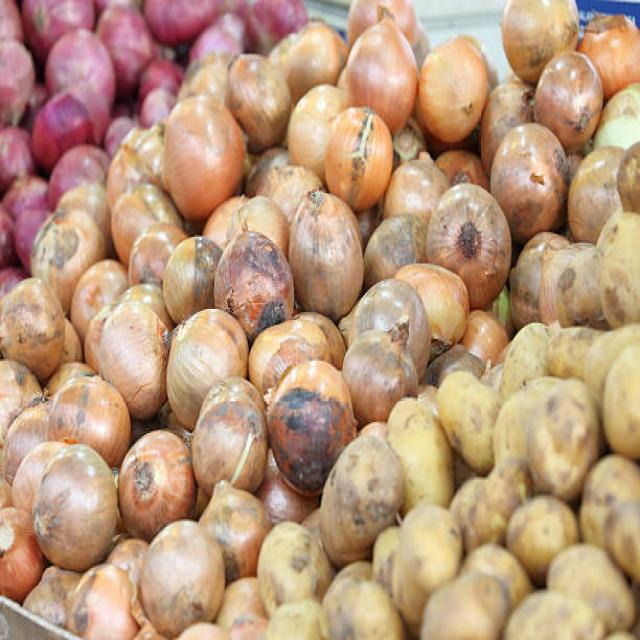rotten: (0, 42, 639, 638), (548, 61, 594, 119)
